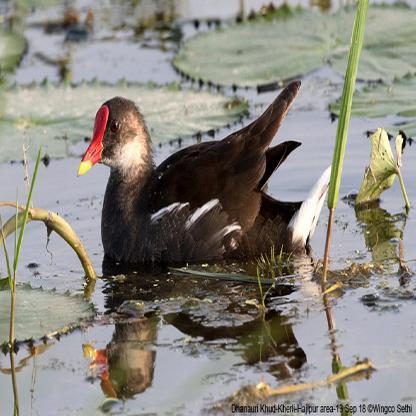Burung: (77, 80, 331, 275)
